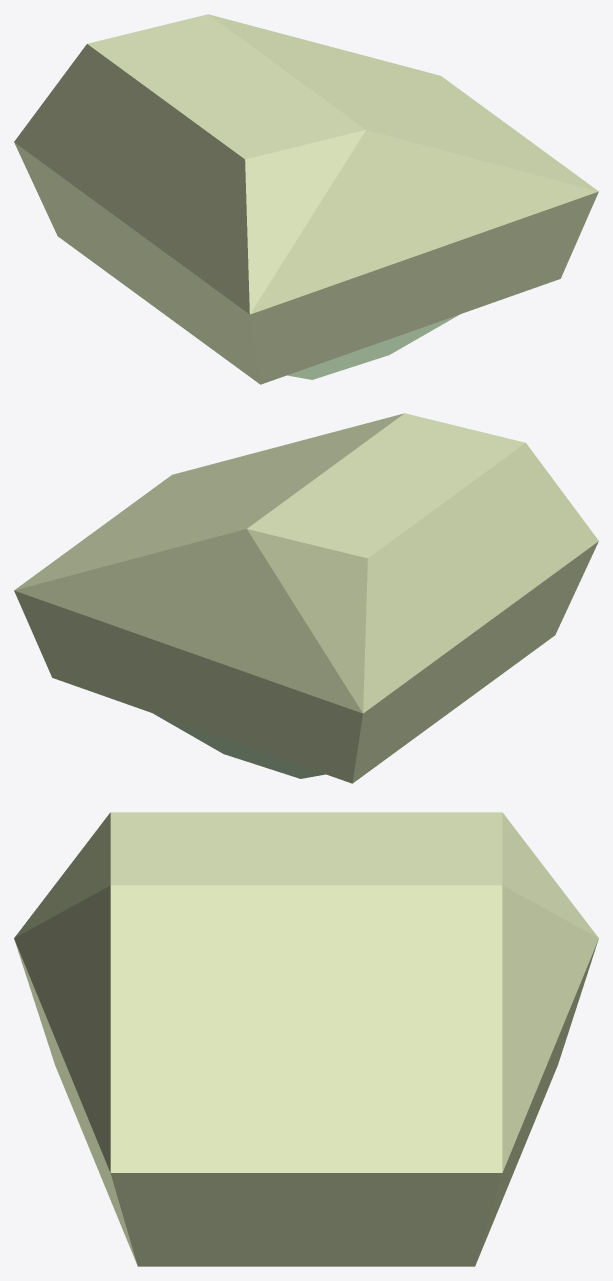
File: Backpack.fbx
The picture shows the model from 3 angles, top to bottom: view 1: azimuth 30°, elevation 25°; view 2: azimuth 150°, elevation 25°; view 3: azimuth 270°, elevation 25°; orthographic projection. The views are drawn at different scales.
Parts seen in each view (by area): view 1: Backpack; view 2: Backpack; view 3: Backpack.
Part boxes in pixels (x1,y1,x2,y2): Backpack: (14,14,598,384); Backpack: (14,413,598,783); Backpack: (14,812,598,1266).
Size of the model in its own units: 0.2346 by 0.1421 by 0.247.
